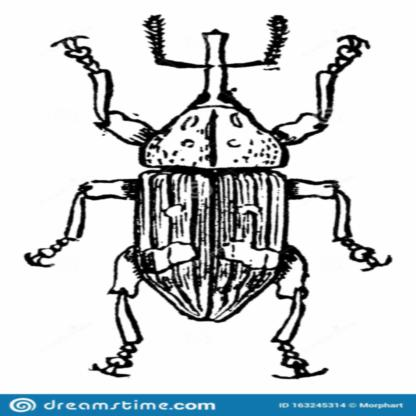ash weevil: (33, 29, 390, 381)
